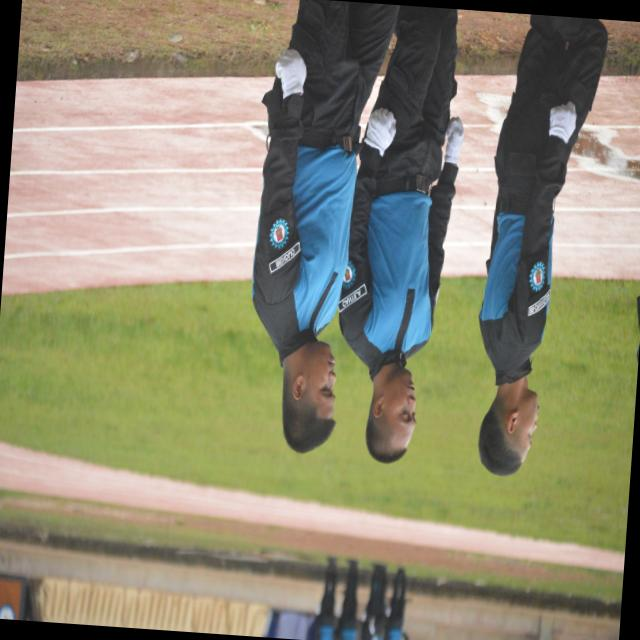person: (253, 0, 398, 452), (479, 15, 607, 474), (339, 5, 463, 462)
